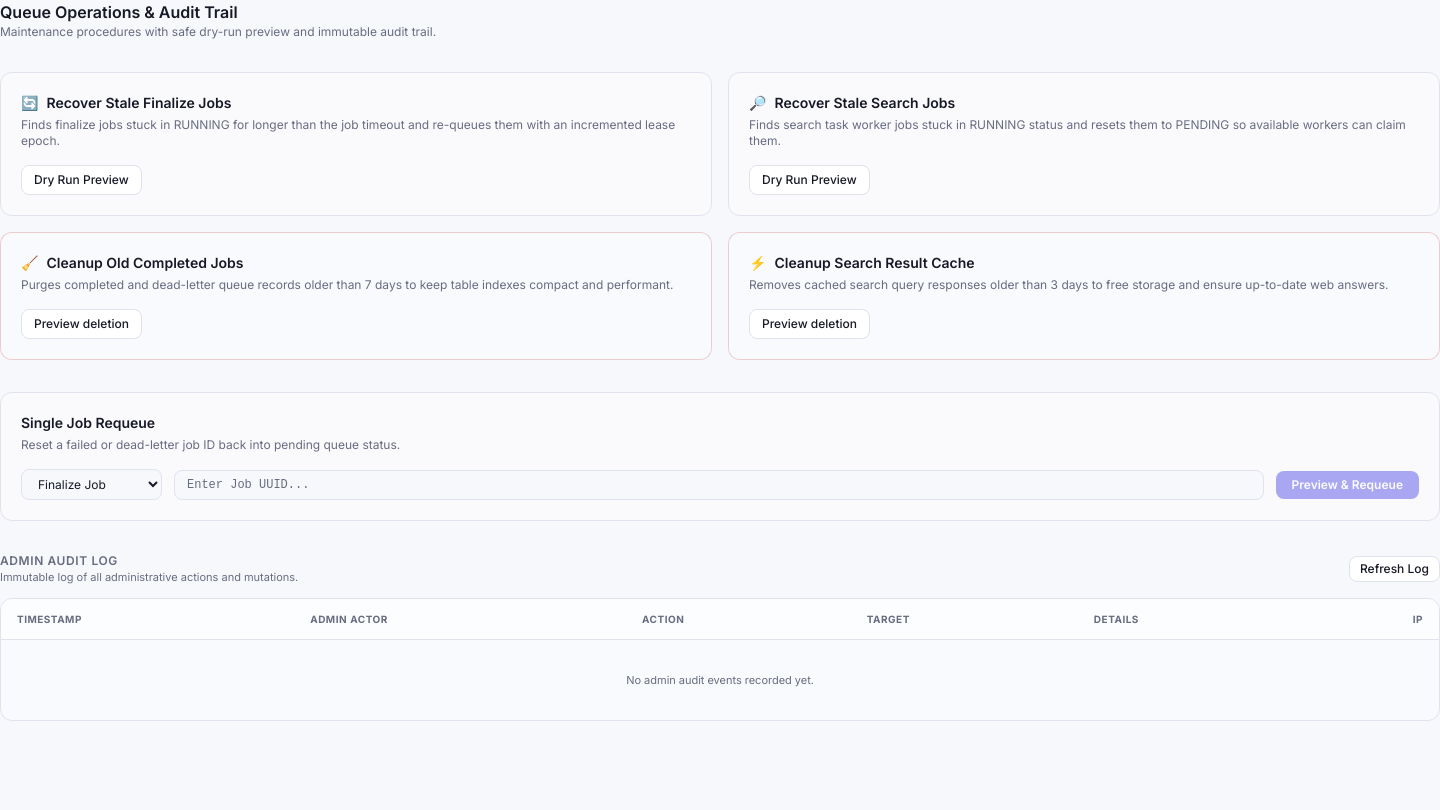
admin OperationsTab › explains a refused finalize requeue: Finalize job state changed. Please retry.
The width and height of the screenshot is (1440, 810).
Type "0f5e7c1a-2b3d-4e5f-8a9b-0c1d2e3f4a5b" into the field with placeholder "Enter Job UUID..." at (719, 484), box [174,470,1264,500]
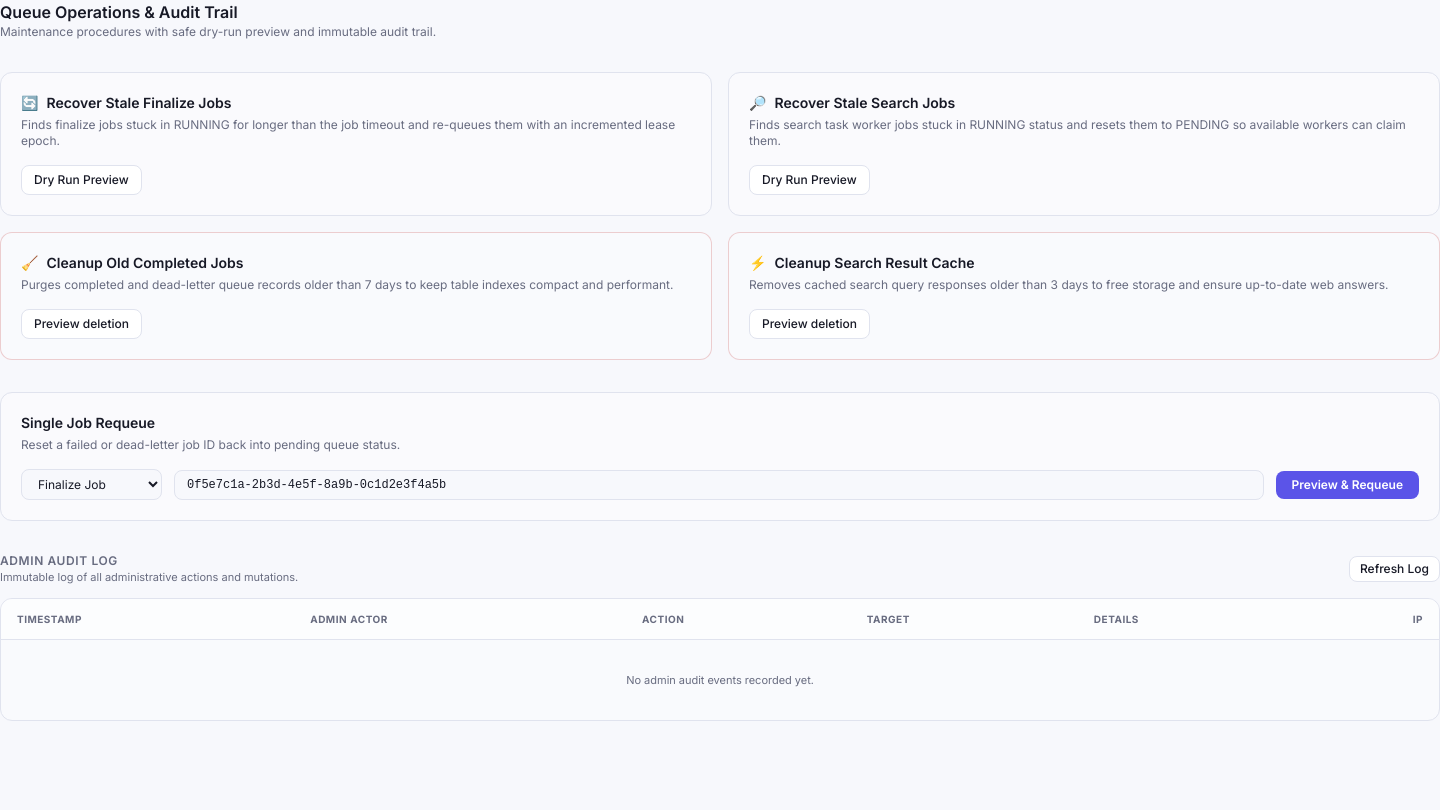
Click the button "Preview & Requeue" at (1347, 484), box [1276,470,1419,498]
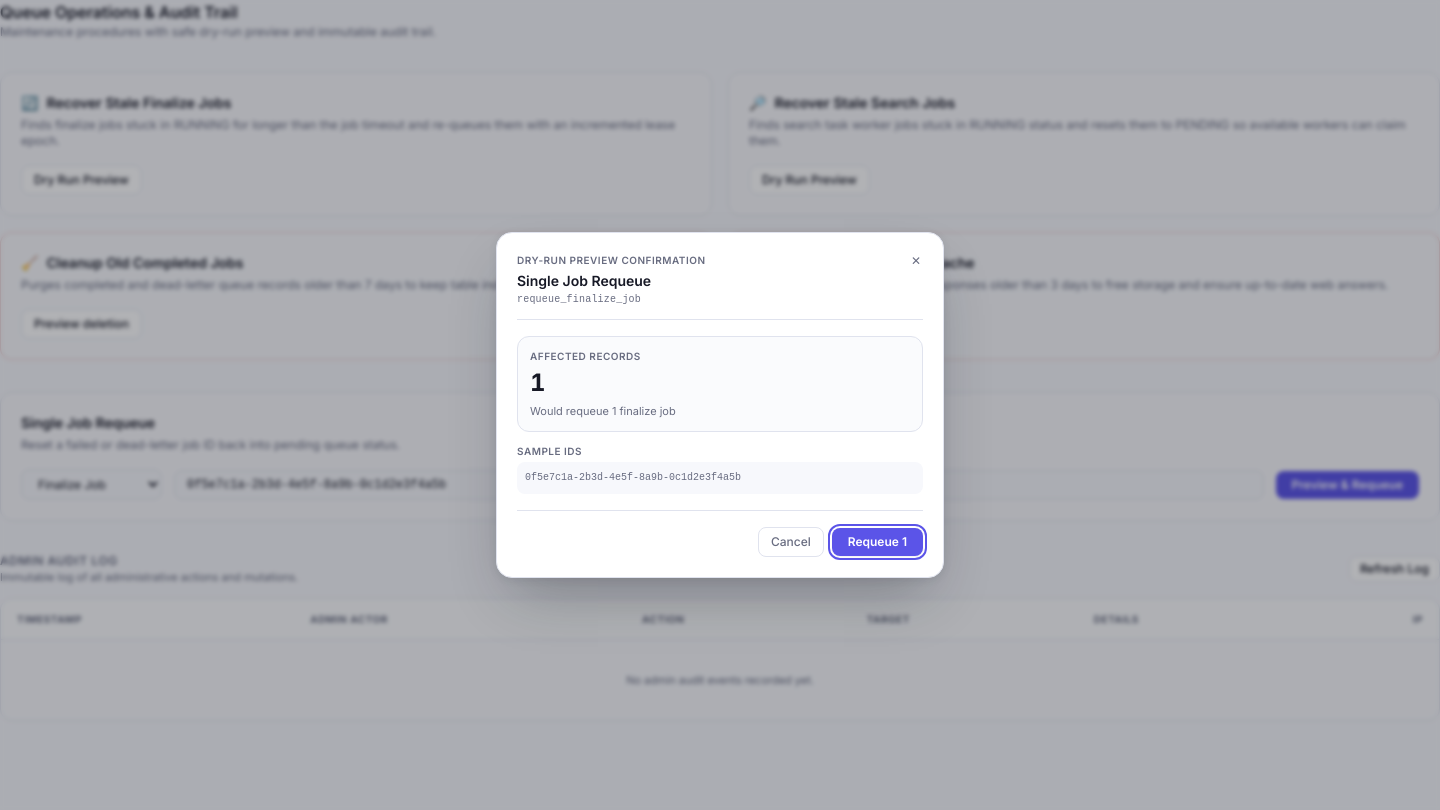
Click the button with test id "confirm-op" at (877, 542), box [832,528,923,556]
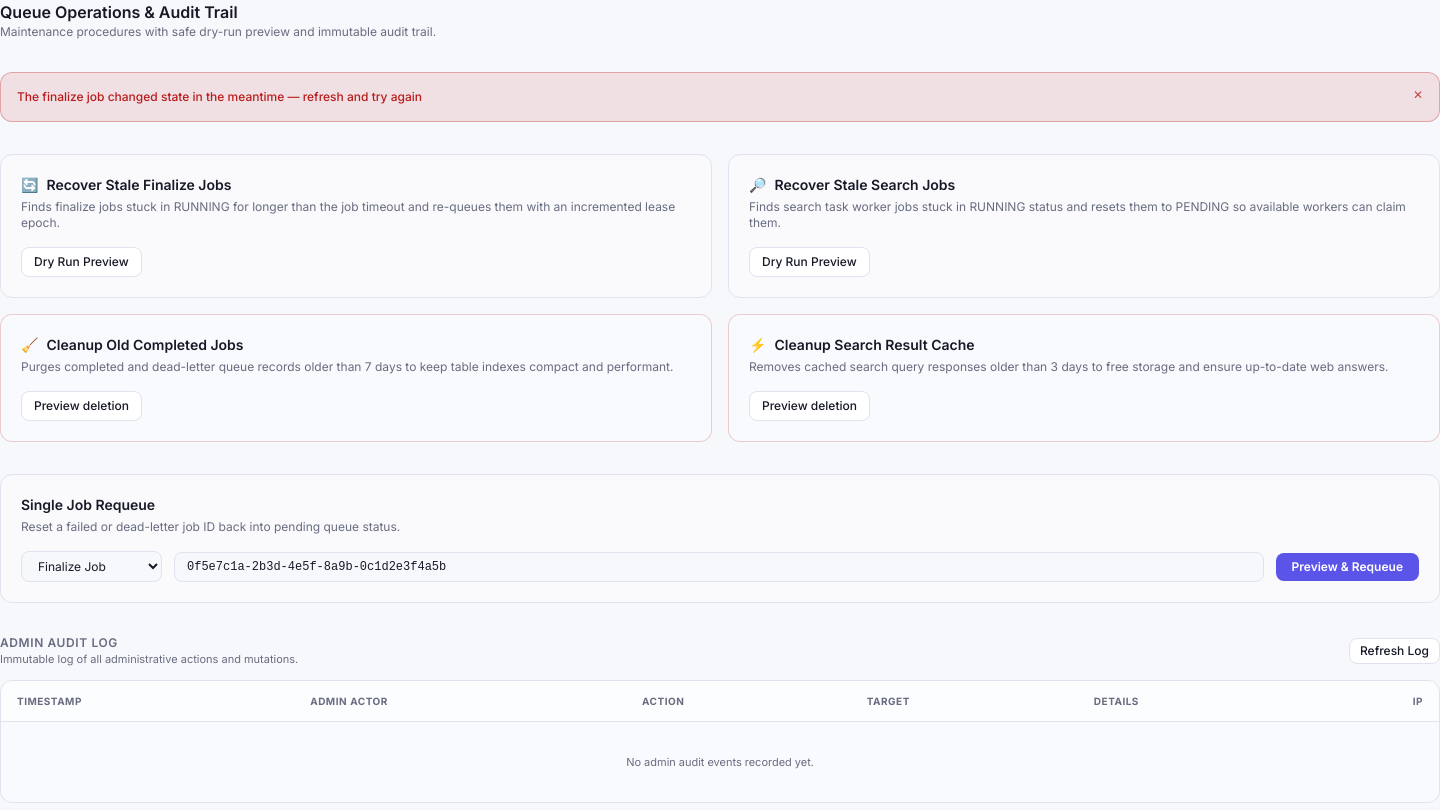
Expected: the text "The finalize job changed state in the meantime — refresh and try again" is shown, [17,89,422,105]
